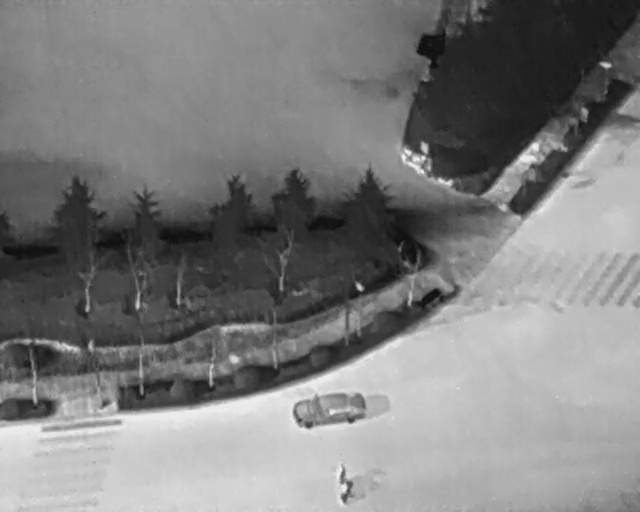Car: (289, 389, 367, 430)
Person: (338, 480, 352, 504), (336, 461, 347, 483)
